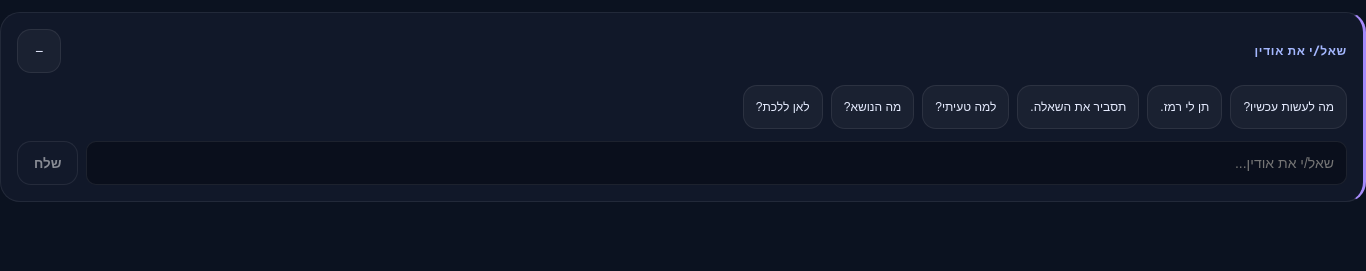
it: AskOdinPanel (general educational assistant pass) › answers "why did I get it wrong" from the last submitted result
Click the button with test id "ask-odin-why-wrong" at (966, 107), box [922,85,1009,129]
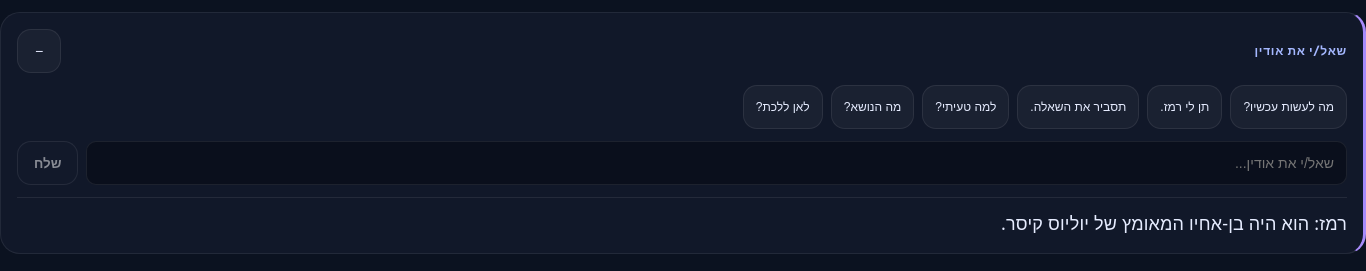
Expected: the text with test id "ask-odin-answer" reads "רמז: הוא היה בן-אחיו המאומץ של יוליוס קיסר.", [1001,211,1347,235]
